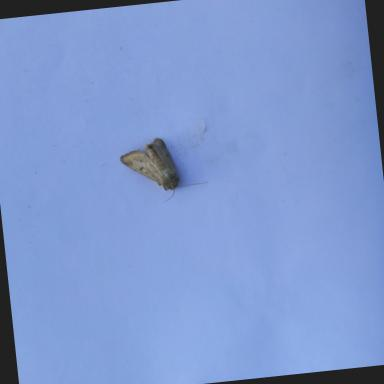abw: (111, 130, 213, 210)
